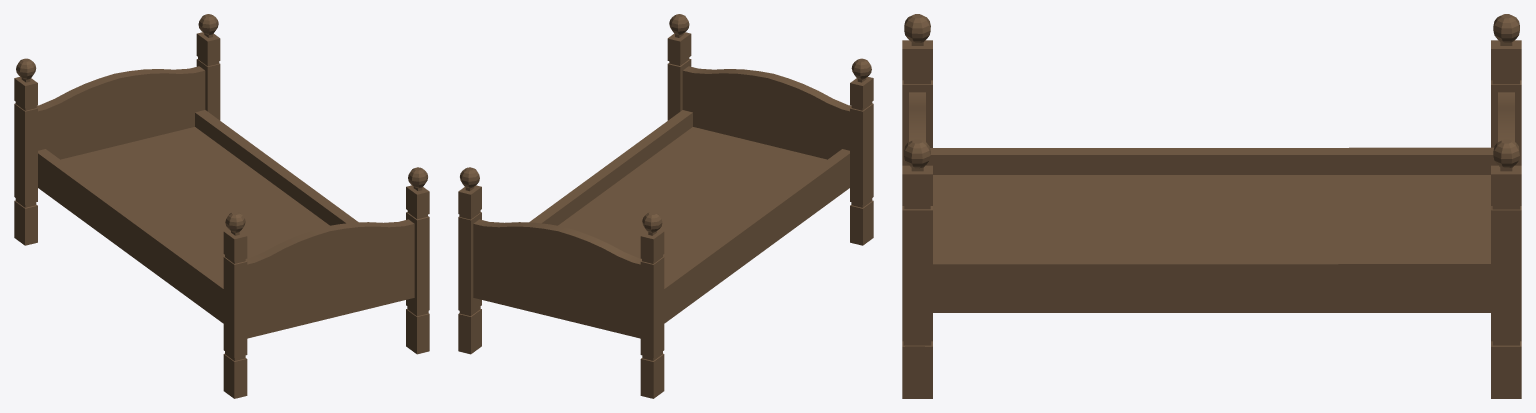
File: Bed_Frame_low.fbx
The picture shows the model from 3 angles, left to right: view 1: azimuth 30°, elevation 25°; view 2: azimuth 150°, elevation 25°; view 3: azimuth 270°, elevation 25°; orthographic projection. The views are drawn at different scales.
Parts seen in each view (by area): view 1: Bed_Frame_low; view 2: Bed_Frame_low; view 3: Bed_Frame_low.
Boxes of the visible parts, x1,y1,x2,y2 form: Bed_Frame_low: (14,14,429,398); Bed_Frame_low: (458,14,873,398); Bed_Frame_low: (902,14,1521,398).
Bounding box in the file's own units: 124 × 107 × 238.
